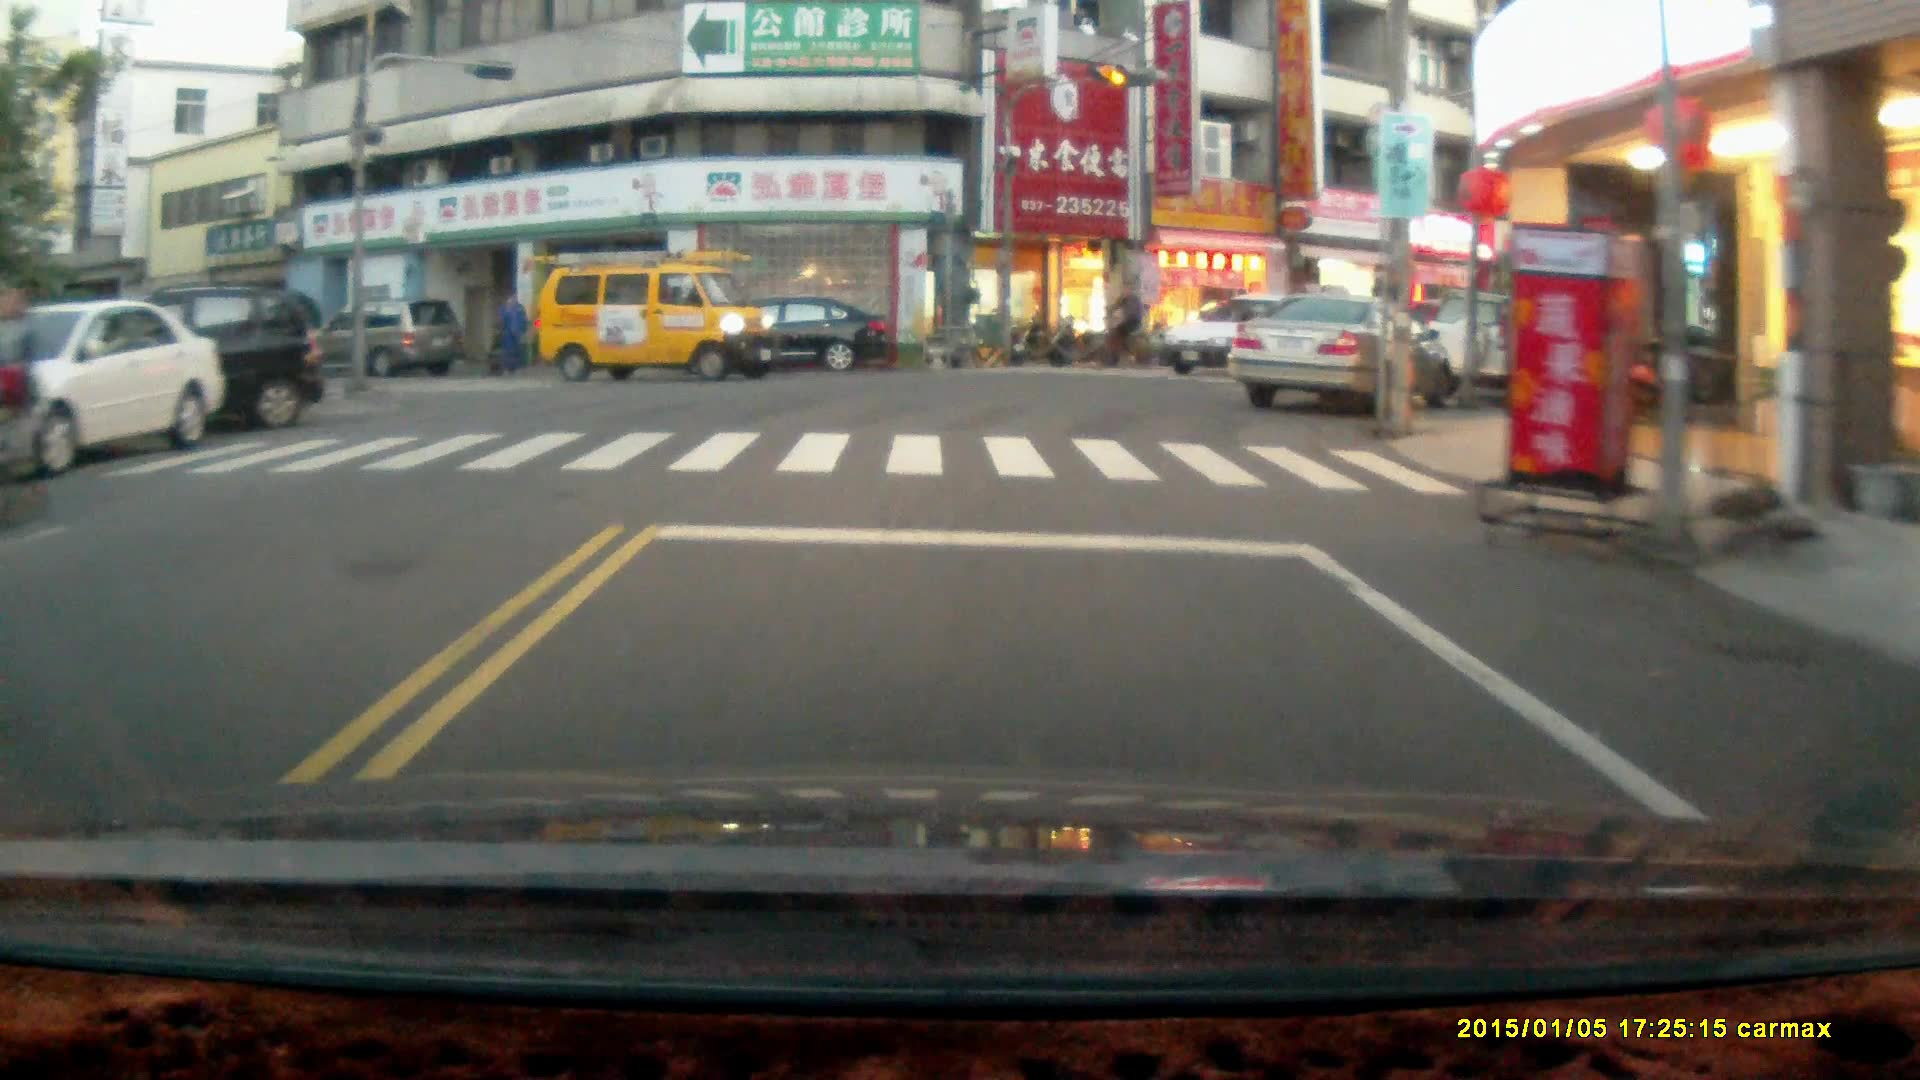pedestrian: (0, 276, 36, 489), (495, 287, 526, 371)
rider: (1079, 275, 1151, 368)
vehicle: (27, 276, 320, 433), (1, 296, 231, 476), (529, 247, 778, 385), (1225, 287, 1459, 408), (1414, 284, 1638, 401), (1150, 284, 1361, 378), (706, 291, 890, 371), (304, 294, 462, 383)
